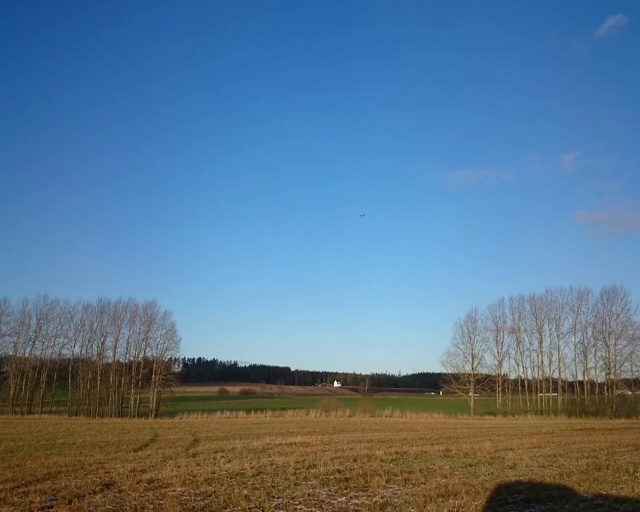DRONE: (358, 211, 367, 218)
